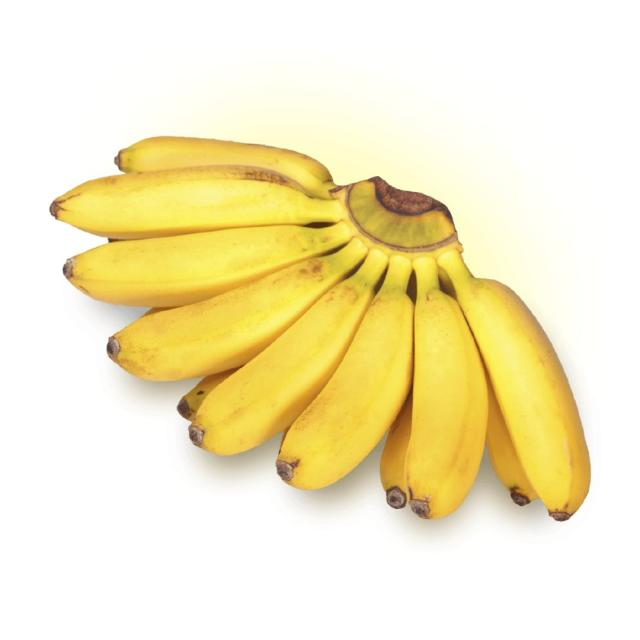Pisang: (46, 138, 591, 524)
